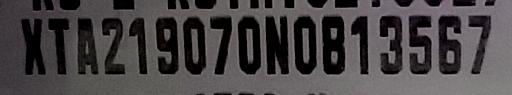letter: (16, 14, 48, 79), (374, 12, 404, 77), (463, 12, 493, 77), (404, 12, 434, 75), (435, 10, 463, 75), (290, 13, 318, 76), (44, 15, 72, 78), (319, 14, 347, 75), (180, 14, 208, 75), (152, 15, 180, 76), (264, 12, 290, 77), (74, 16, 100, 79), (347, 11, 371, 78), (236, 14, 262, 75), (207, 14, 233, 75), (125, 15, 151, 76), (100, 16, 126, 75)
